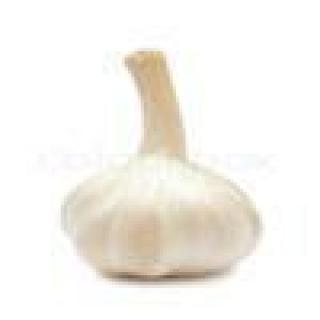Bawang Putih: (46, 43, 273, 292)
